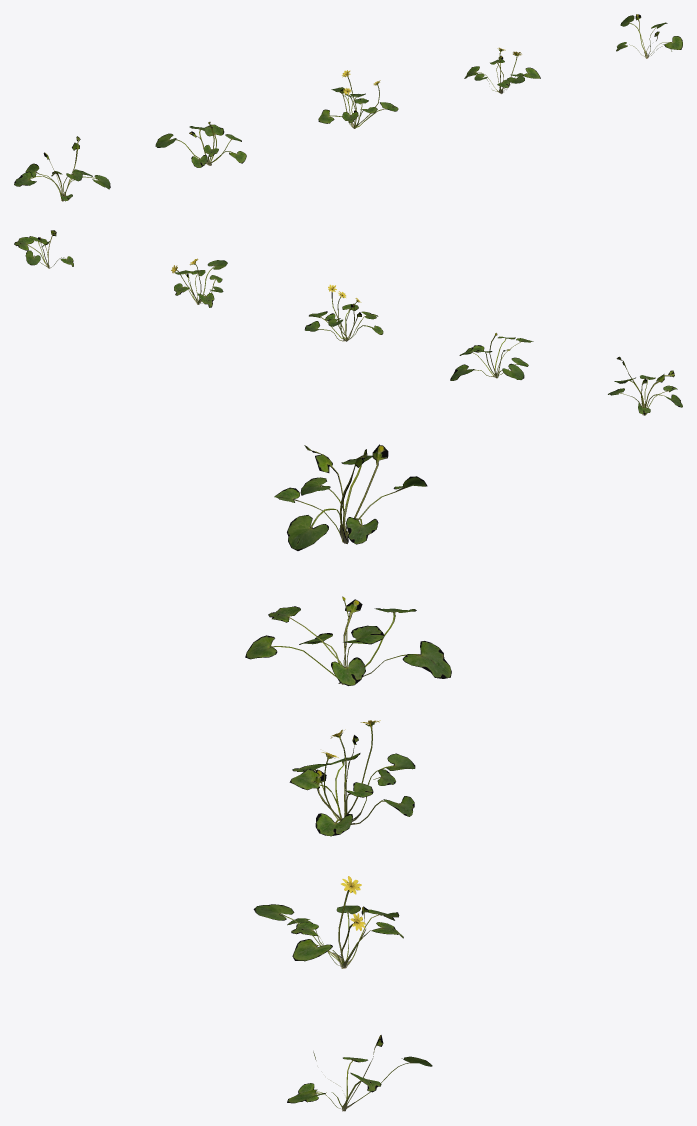
Rendered from celandine_01.glb.
3 renders of one model, top to bottom at view 1: azimuth 30°, elevation 25°; view 2: azimuth 150°, elevation 25°; view 3: azimuth 270°, elevation 25°, orthographic. The views are drawn at different scales.
Visible parts, largest first — view 1: celandine_01_b, celandine_01_c, celandine_01_a, celandine_01_d, celandine_01_e; view 2: celandine_01_c, celandine_01_b, celandine_01_d, celandine_01_a, celandine_01_e; view 3: celandine_01_b, celandine_01_a, celandine_01_c, celandine_01_d, celandine_01_e.
Boxes of the visible parts, <box> form: celandine_01_b: <box>155,122,246,167</box>; celandine_01_c: <box>318,70,398,128</box>; celandine_01_a: <box>14,136,110,201</box>; celandine_01_d: <box>464,47,540,93</box>; celandine_01_e: <box>616,14,682,58</box>; celandine_01_c: <box>304,284,383,341</box>; celandine_01_b: <box>450,333,533,380</box>; celandine_01_d: <box>171,258,227,307</box>; celandine_01_a: <box>608,356,682,415</box>; celandine_01_e: <box>14,230,73,268</box>; celandine_01_b: <box>245,596,451,685</box>; celandine_01_a: <box>274,444,427,550</box>; celandine_01_c: <box>289,720,415,836</box>; celandine_01_d: <box>253,876,403,968</box>; celandine_01_e: <box>287,1035,432,1111</box>.
Size of the model in its own units: 2.24 by 0.1859 by 0.3067.
Materials: 1 (1 with a texture image).
